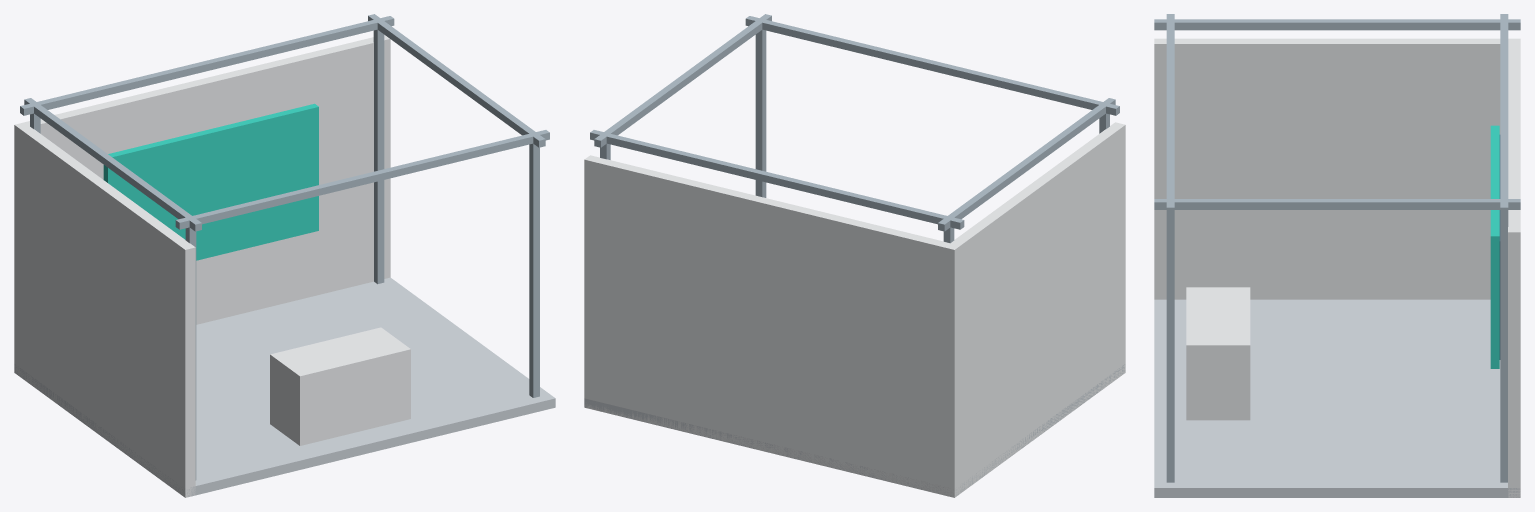
3 views of the same model, side by side, from view 1: azimuth 30°, elevation 25°; view 2: azimuth 150°, elevation 25°; view 3: azimuth 270°, elevation 25° (orthographic). The views are drawn at different scales.
Visible parts, largest first — view 1: Exhibition Booth Concept; view 2: Exhibition Booth Concept; view 3: Exhibition Booth Concept.
Part boxes in pixels (x1,y1,x2,y2): Exhibition Booth Concept: [14, 14, 555, 497]; Exhibition Booth Concept: [584, 14, 1125, 497]; Exhibition Booth Concept: [1154, 14, 1520, 497].
Bounding box in the file's own units: 5 × 3.49 × 4.
